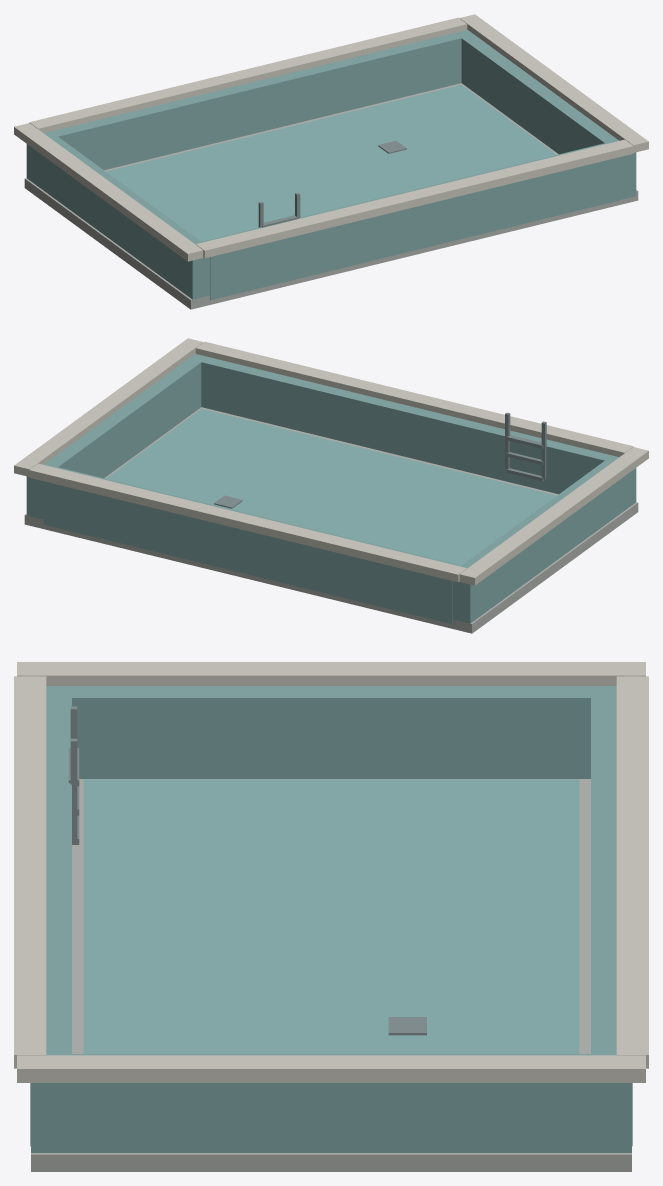
File: empty-pool.glb
The picture shows the model from 3 angles, top to bottom: view 1: azimuth 30°, elevation 25°; view 2: azimuth 150°, elevation 25°; view 3: azimuth 270°, elevation 25°; orthographic projection. The views are drawn at different scales.
Parts seen in each view (by area): view 1: Sanatorium_Empty_Pool_Sanatorium_Faded_Aqua, Dry_aqua_floor, Sanatorium_Empty_Pool_Sanatorium_Cream_Plaster, Pool_slab, Sanatorium_Empty_Pool_Sanatorium_Painted_Metal; view 2: Sanatorium_Empty_Pool_Sanatorium_Faded_Aqua, Dry_aqua_floor, Sanatorium_Empty_Pool_Sanatorium_Cream_Plaster, Pool_slab, Sanatorium_Empty_Pool_Sanatorium_Painted_Metal; view 3: Dry_aqua_floor, Sanatorium_Empty_Pool_Sanatorium_Faded_Aqua, Sanatorium_Empty_Pool_Sanatorium_Cream_Plaster, Pool_slab, Sanatorium_Empty_Pool_Sanatorium_Painted_Metal.
Part boxes in pixels (x1,y1,x2,y2): Sanatorium_Empty_Pool_Sanatorium_Faded_Aqua: (26,30,636,303); Dry_aqua_floor: (106,85,556,241); Sanatorium_Empty_Pool_Sanatorium_Cream_Plaster: (14,14,648,261); Pool_slab: (24,83,638,309); Sanatorium_Empty_Pool_Sanatorium_Painted_Metal: (258,140,406,227); Sanatorium_Empty_Pool_Sanatorium_Faded_Aqua: (26,354,636,626); Dry_aqua_floor: (106,409,556,565); Sanatorium_Empty_Pool_Sanatorium_Cream_Plaster: (14,338,648,585); Pool_slab: (24,407,638,633); Sanatorium_Empty_Pool_Sanatorium_Painted_Metal: (214,412,546,508); Dry_aqua_floor: (83,779,579,1053); Sanatorium_Empty_Pool_Sanatorium_Faded_Aqua: (30,686,632,1152); Sanatorium_Empty_Pool_Sanatorium_Cream_Plaster: (14,662,648,1082); Pool_slab: (31,779,631,1171); Sanatorium_Empty_Pool_Sanatorium_Painted_Metal: (68,706,426,1035).
Size of the model in its own units: 5.05 by 0.82 by 3.33.
